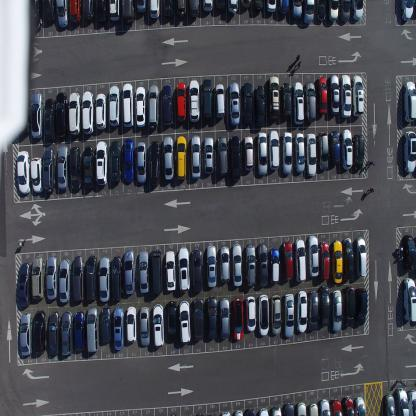car: (16, 149, 31, 194), (32, 308, 46, 355), (16, 88, 30, 134), (177, 245, 190, 293), (148, 139, 161, 187), (72, 255, 85, 303), (30, 91, 43, 138), (58, 257, 71, 304), (402, 80, 416, 123), (178, 299, 191, 345), (68, 90, 81, 136), (95, 140, 108, 186), (69, 145, 82, 191), (150, 249, 163, 295), (123, 249, 136, 295), (87, 306, 100, 352), (18, 262, 31, 308), (56, 90, 68, 139), (31, 255, 44, 300), (98, 255, 110, 303), (81, 90, 94, 134), (42, 148, 55, 192), (342, 237, 355, 281), (257, 241, 269, 288), (122, 82, 134, 129), (268, 74, 280, 121), (403, 276, 415, 323), (147, 84, 159, 130), (190, 247, 202, 293), (122, 138, 134, 184), (305, 132, 317, 178), (86, 254, 98, 300), (48, 310, 60, 356), (20, 311, 32, 357), (317, 130, 330, 172), (162, 136, 174, 181), (110, 138, 122, 183), (82, 145, 94, 190), (152, 303, 164, 348), (46, 255, 58, 300), (232, 297, 244, 341), (244, 243, 256, 287), (192, 297, 204, 341), (256, 131, 268, 175), (294, 238, 306, 282), (268, 128, 280, 172), (292, 81, 304, 125), (340, 74, 352, 118), (403, 130, 415, 174), (111, 254, 122, 302), (229, 134, 240, 181), (229, 80, 240, 127), (216, 134, 228, 177), (205, 245, 217, 288), (108, 84, 120, 127), (307, 234, 319, 277), (175, 134, 186, 180), (242, 80, 253, 126), (44, 97, 55, 143), (57, 144, 68, 190), (113, 305, 124, 351), (61, 311, 72, 357), (161, 84, 173, 126), (166, 301, 178, 343), (282, 240, 294, 282), (344, 285, 356, 327), (355, 236, 367, 278), (304, 80, 316, 122), (341, 128, 353, 170), (74, 310, 86, 352), (190, 134, 201, 179), (352, 75, 364, 116), (139, 306, 151, 347), (188, 78, 199, 122), (175, 81, 186, 125), (135, 85, 146, 129), (206, 296, 217, 340), (136, 140, 147, 184), (283, 294, 294, 338), (331, 239, 342, 283), (138, 250, 149, 294), (316, 75, 328, 115), (219, 297, 230, 340), (165, 249, 176, 292), (331, 289, 342, 332), (328, 72, 339, 115), (404, 234, 416, 273), (258, 294, 269, 336), (270, 294, 281, 336), (296, 290, 307, 332), (308, 290, 319, 332), (319, 284, 330, 326), (218, 245, 230, 283), (95, 92, 107, 130), (30, 155, 42, 193), (352, 133, 364, 171), (280, 80, 291, 121), (294, 132, 305, 173), (282, 130, 292, 175), (28, 0, 42, 32), (232, 243, 242, 287), (202, 78, 212, 122), (356, 286, 367, 326), (319, 241, 330, 281), (395, 386, 410, 415), (203, 136, 214, 175), (255, 84, 265, 126), (214, 82, 225, 119), (245, 295, 256, 332), (126, 306, 137, 343), (101, 306, 112, 343), (243, 134, 254, 170), (270, 246, 280, 284), (55, 0, 69, 27), (68, 0, 82, 26), (330, 130, 340, 166), (121, 0, 136, 23), (400, 0, 414, 22), (302, 0, 315, 23), (339, 0, 352, 23), (95, 0, 108, 22), (43, 0, 55, 23), (315, 0, 327, 22), (83, 0, 94, 23), (327, 0, 339, 21), (384, 394, 396, 415), (290, 0, 303, 19), (407, 388, 416, 415), (342, 395, 354, 415), (329, 398, 342, 416), (318, 397, 331, 415), (109, 0, 120, 21), (162, 0, 174, 19), (148, 0, 160, 19), (354, 396, 366, 415), (352, 0, 362, 22), (175, 0, 187, 18), (189, 0, 200, 19), (135, 0, 147, 14), (278, 0, 289, 15), (227, 0, 238, 14), (202, 0, 213, 13), (251, 0, 264, 11), (266, 0, 277, 13), (283, 402, 294, 415), (296, 401, 306, 415), (270, 405, 282, 415), (215, 0, 225, 11), (258, 406, 269, 416), (309, 403, 318, 415), (240, 0, 251, 8), (245, 408, 255, 416), (233, 408, 243, 416), (221, 410, 230, 416), (208, 410, 218, 415), (196, 410, 204, 415), (169, 411, 178, 415)
